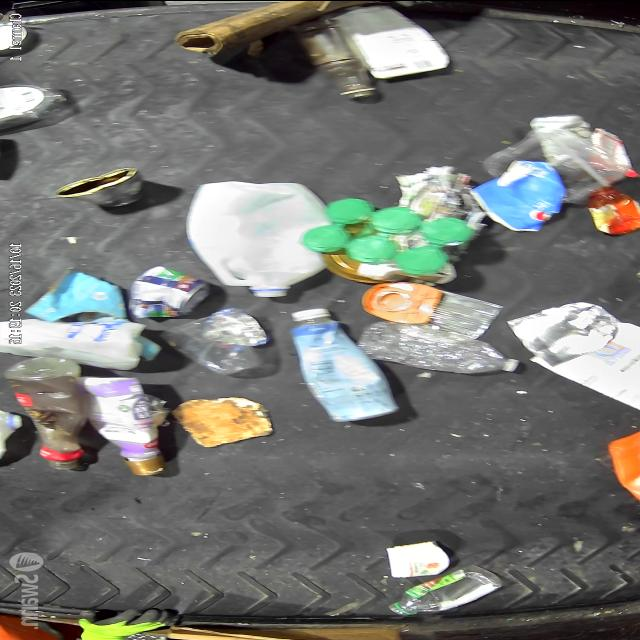can: (512, 302, 618, 364), (120, 262, 220, 318), (50, 168, 154, 220)
milk_jug: (184, 181, 336, 299), (0, 316, 180, 372)
plastic_bottle: (364, 318, 524, 377)
